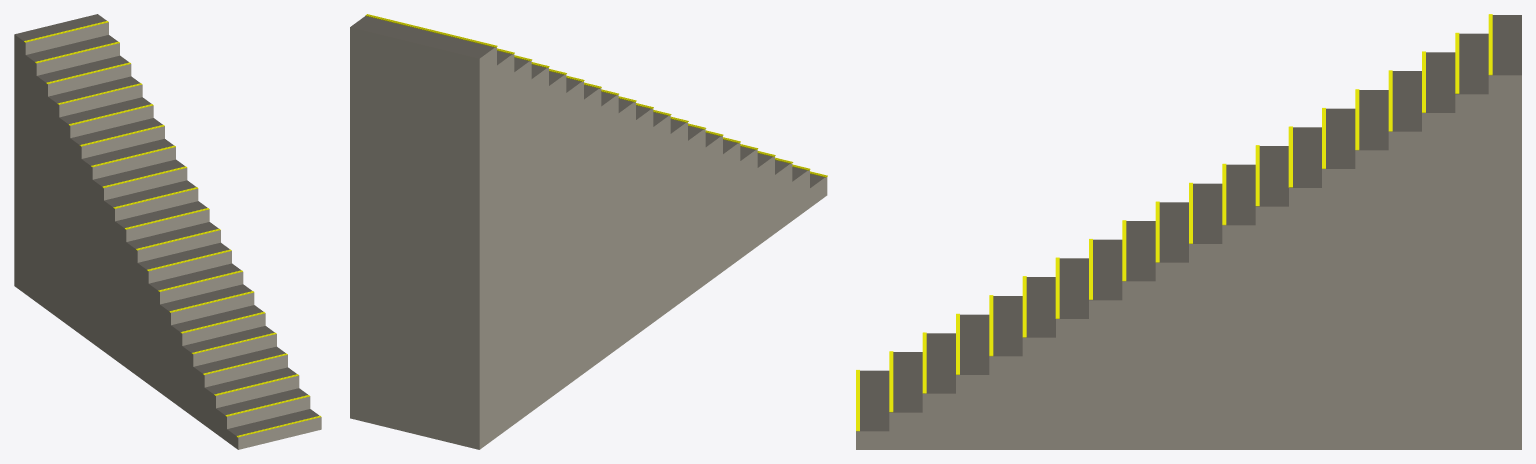
Rendered from stair2.fbx.
3 renders of one model, left to right at view 1: azimuth 30°, elevation 25°; view 2: azimuth 150°, elevation 25°; view 3: azimuth 270°, elevation 25°, orthographic. The views are drawn at different scales.
Visible parts, largest first — view 1: stair, stair.001; view 2: stair, stair.001; view 3: stair, stair.001.
Boxes of the visible parts, x1=… form: stair: x1=14, y1=22, x2=321, y2=449; stair.001: x1=15, y1=14, x2=319, y2=435; stair: x1=350, y1=27, x2=827, y2=449; stair.001: x1=350, y1=16, x2=824, y2=187; stair: x1=856, y1=75, x2=1521, y2=449; stair.001: x1=860, y1=15, x2=1521, y2=431.
Size of the model in its own units: 125 by 361 by 580.
